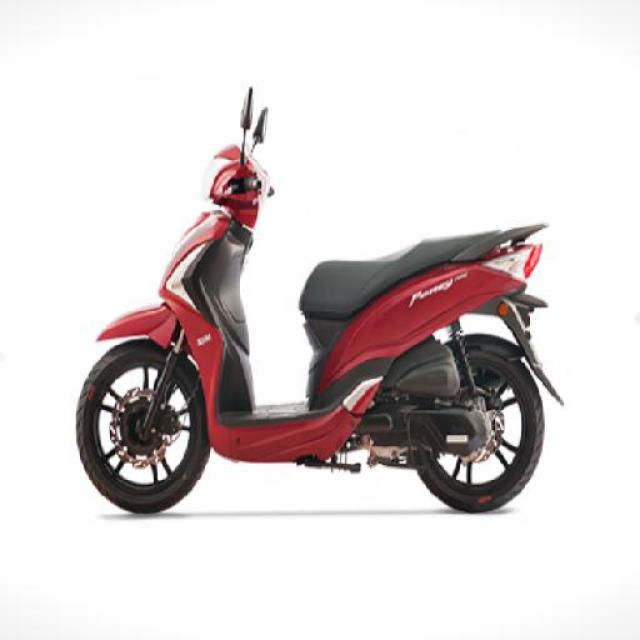All: (72, 81, 573, 517)
Head: (195, 130, 284, 219)
Tail: (475, 212, 556, 292)
